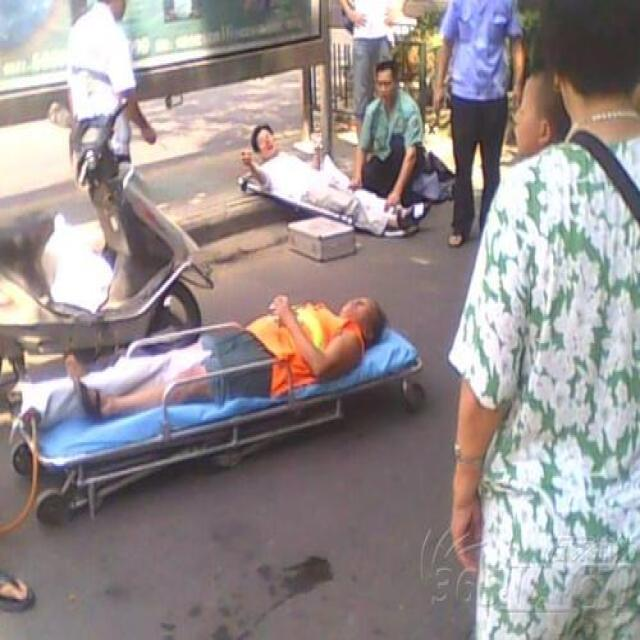fall: (90, 287, 385, 418), (246, 126, 408, 232)
